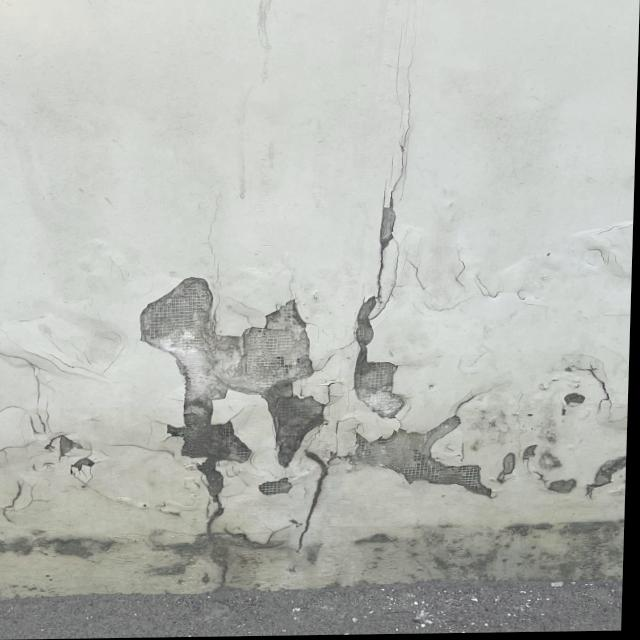crack: (0, 328, 106, 408)
hollowing: (469, 217, 625, 320)
spalling: (126, 271, 507, 593), (341, 42, 425, 422), (491, 359, 619, 512), (0, 416, 115, 520)
